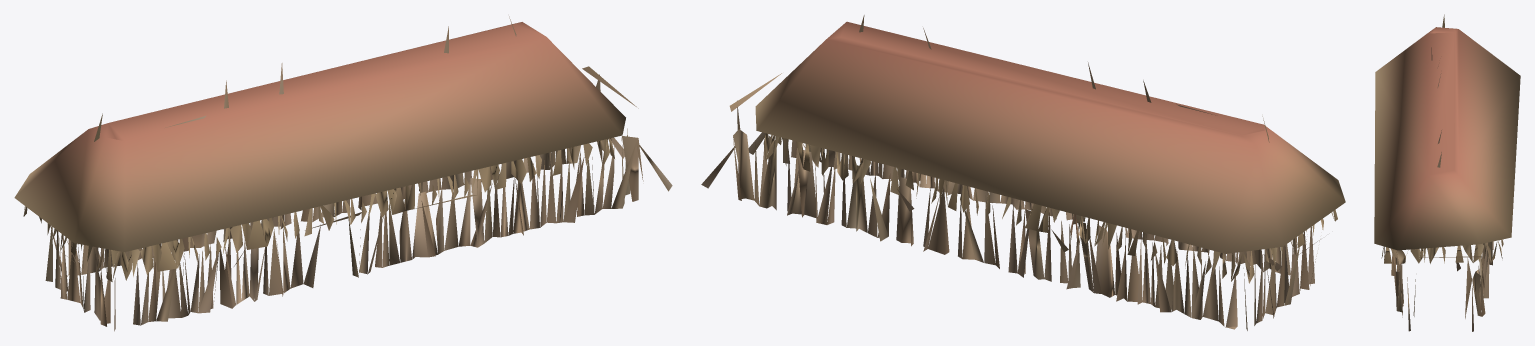
Rendered from caney_largo_lejos.glb.
3 views of the same model, side by side, from view 1: azimuth 30°, elevation 25°; view 2: azimuth 150°, elevation 25°; view 3: azimuth 270°, elevation 25° (orthographic). The views are drawn at different scales.
Parts seen in each view (by area): view 1: caney_largo_lejos; view 2: caney_largo_lejos; view 3: caney_largo_lejos.
Part boxes in pixels (x1,y1,x2,y2): caney_largo_lejos: [14, 16, 672, 331]; caney_largo_lejos: [701, 15, 1345, 330]; caney_largo_lejos: [1374, 14, 1520, 331].
Size of the model in its own units: 22.22 by 7.14 by 6.72.
